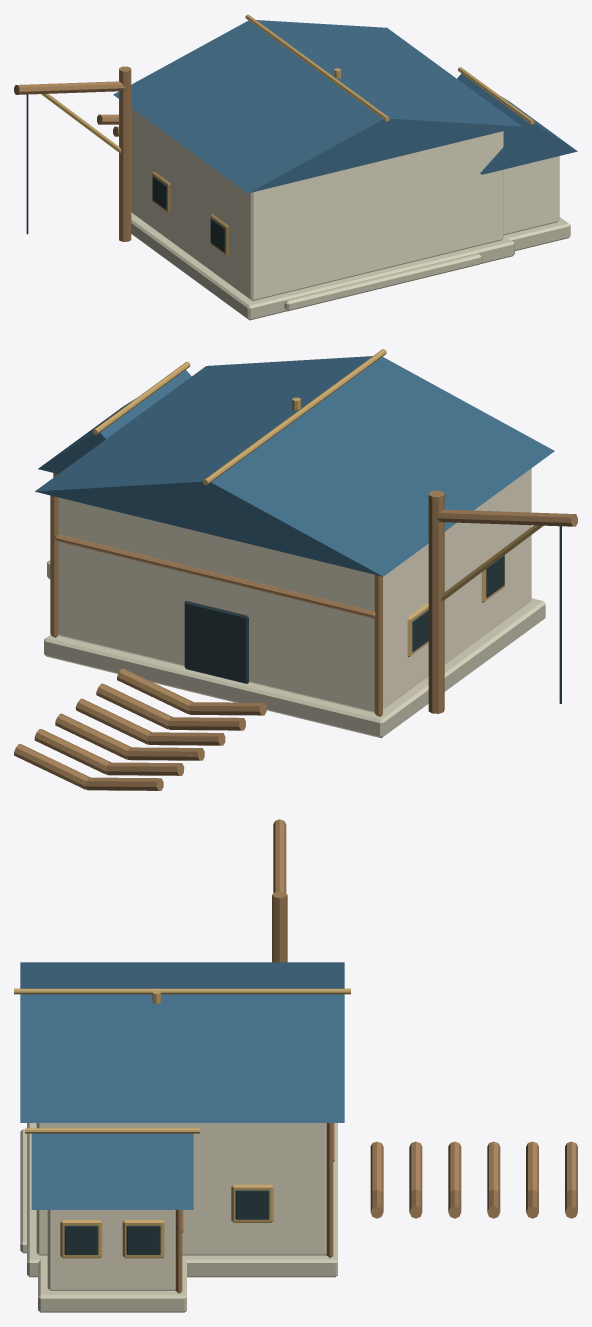
File: level_17.glb
3 views of the same model, one above another, from view 1: azimuth 30°, elevation 25°; view 2: azimuth 150°, elevation 25°; view 3: azimuth 270°, elevation 25° (orthographic). The views are drawn at different scales.
Parts seen in each view (by area): view 1: shipyard — level 17; view 2: shipyard — level 17; view 3: shipyard — level 17.
Boxes of the visible parts, bbox=[...] form: shipyard — level 17: bbox=[14, 14, 577, 320]; shipyard — level 17: bbox=[14, 349, 577, 790]; shipyard — level 17: bbox=[14, 819, 577, 1312].
Bounding box in the file's own units: 9.81 × 3.91 × 8.7.
